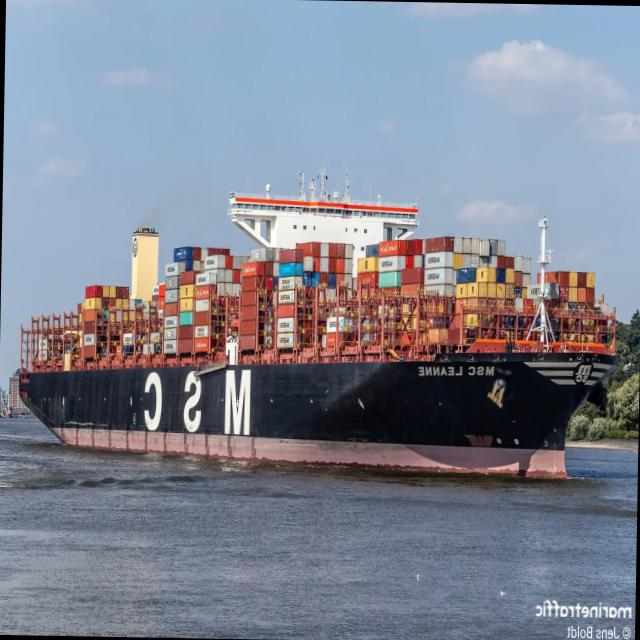Cargo: (19, 168, 616, 475)
